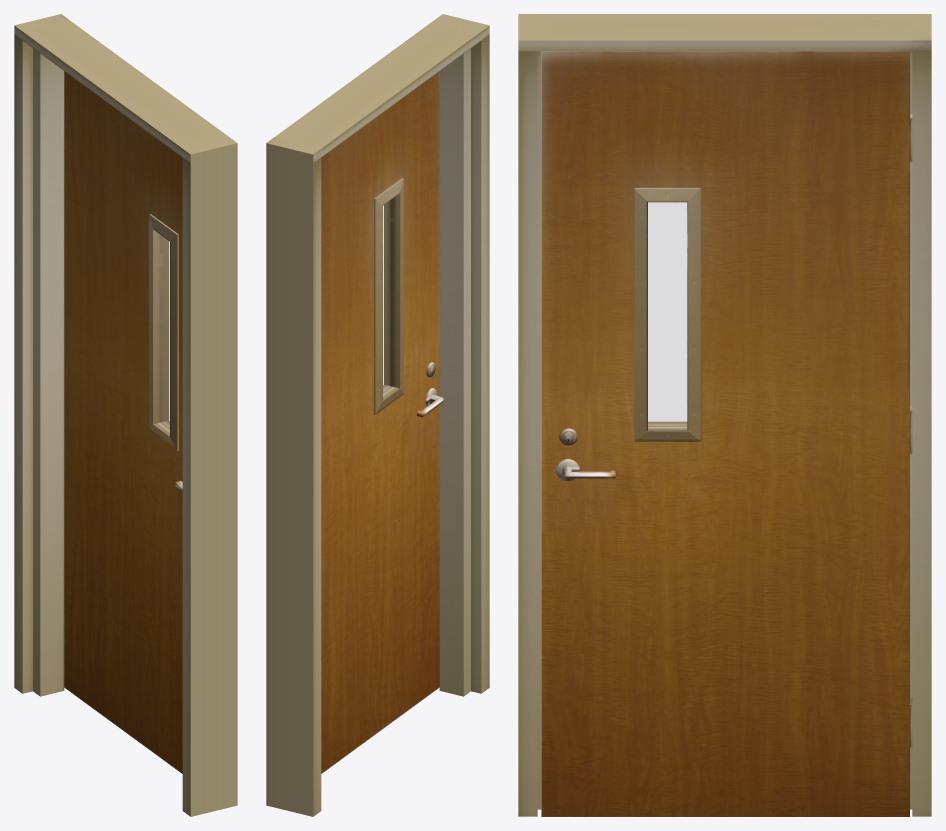
File: door_main_mdl.fbx
The picture shows the model from 3 angles, left to right: view 1: azimuth 30°, elevation 25°; view 2: azimuth 150°, elevation 25°; view 3: azimuth 270°, elevation 25°; orthographic projection. The views are drawn at different scales.
Visible parts, largest first — view 1: door_frame, door_panel; view 2: door_frame, door_panel; view 3: door_panel, door_frame, door_handle.
Part boxes in pixels (left/top/right/bottom): door_frame: left=14, top=14, right=237, bottom=816; door_panel: left=64, top=71, right=182, bottom=773; door_frame: left=266, top=14, right=489, bottom=816; door_panel: left=321, top=71, right=439, bottom=773; door_panel: left=541, top=51, right=912, bottom=816; door_frame: left=518, top=14, right=931, bottom=816; door_handle: left=556, top=459, right=616, bottom=480.
Bounding box in the file's own units: 0.2587 × 2.76 × 1.33.
2 materials, 1 textured.
